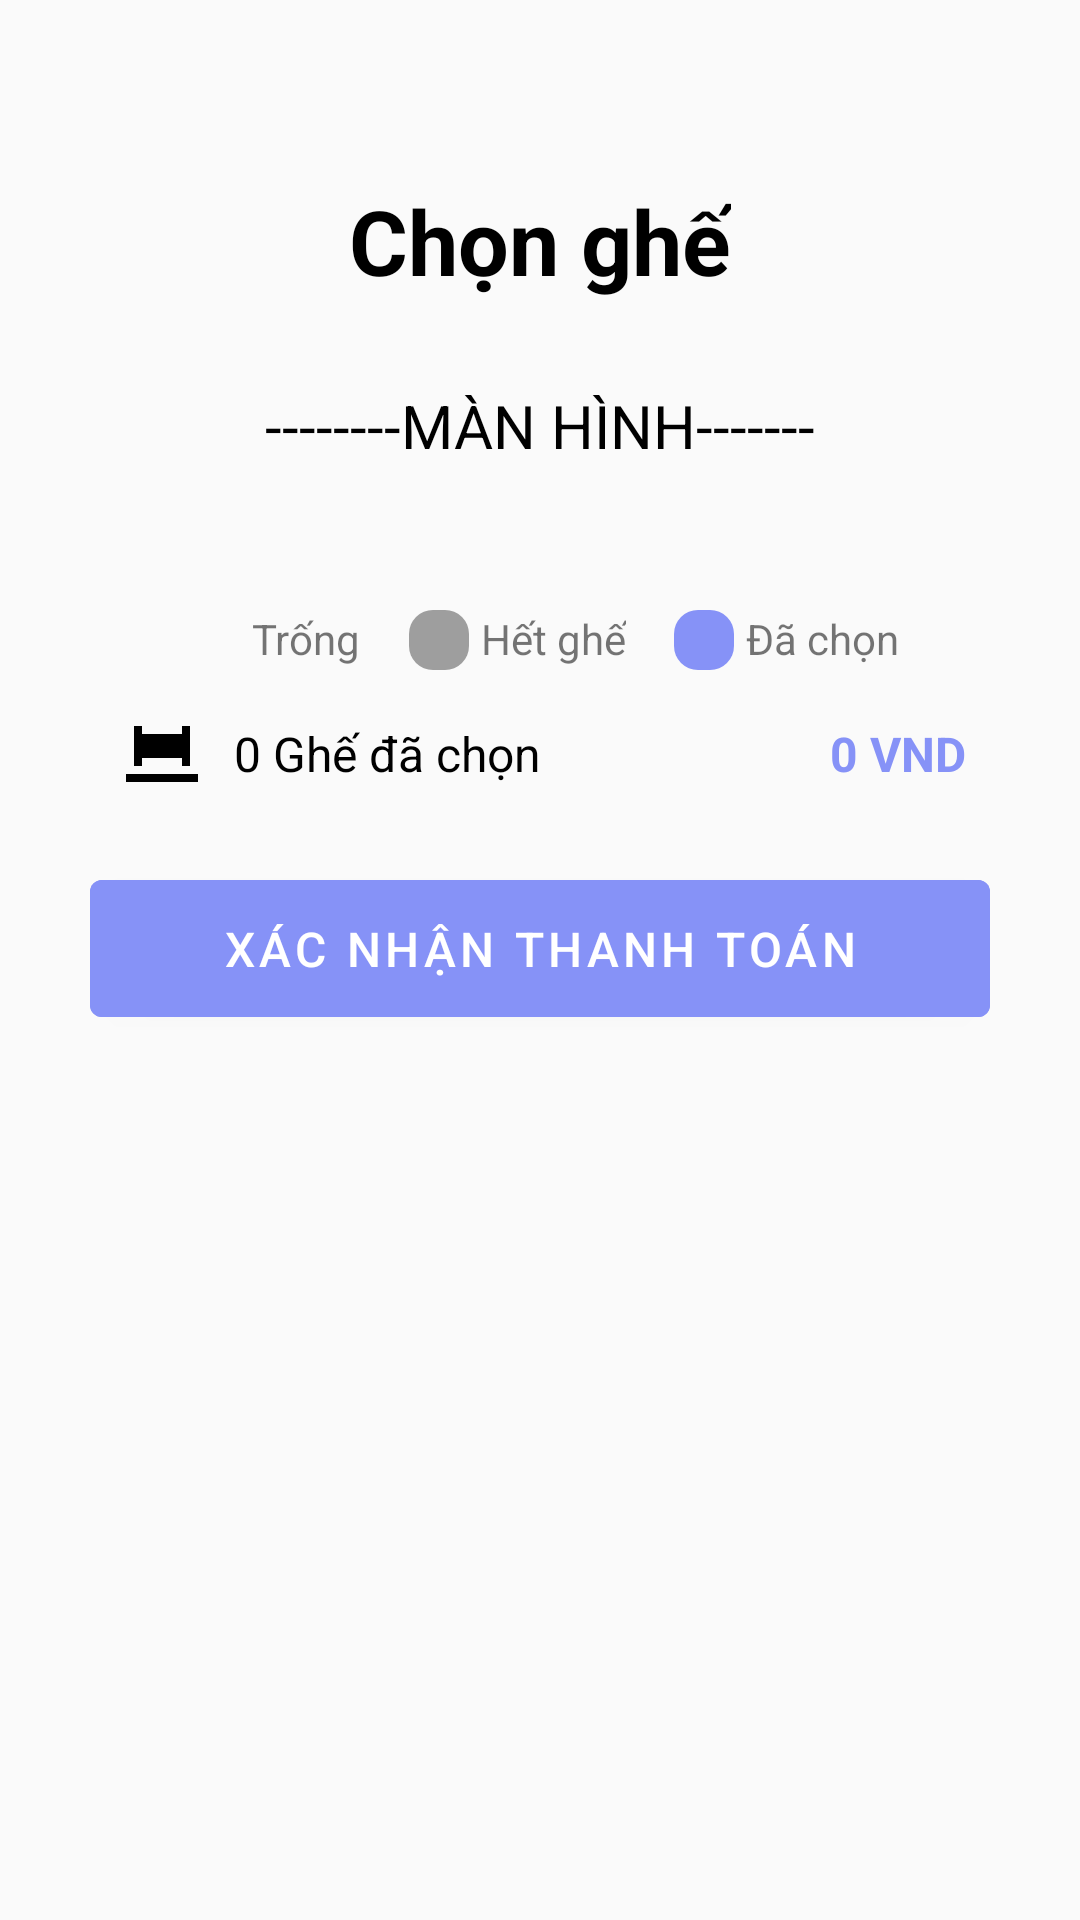

Icons on this 1080 × 1920 Android screen, each with the point to tap as (x=x, y=y):
seat: (x=162, y=754)
